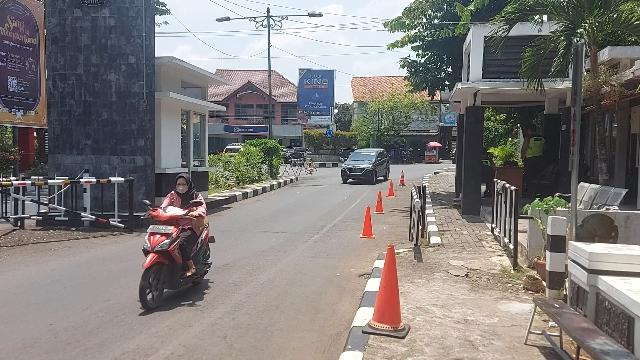motor: (140, 207, 217, 311)
non-helm: (176, 175, 193, 195)
